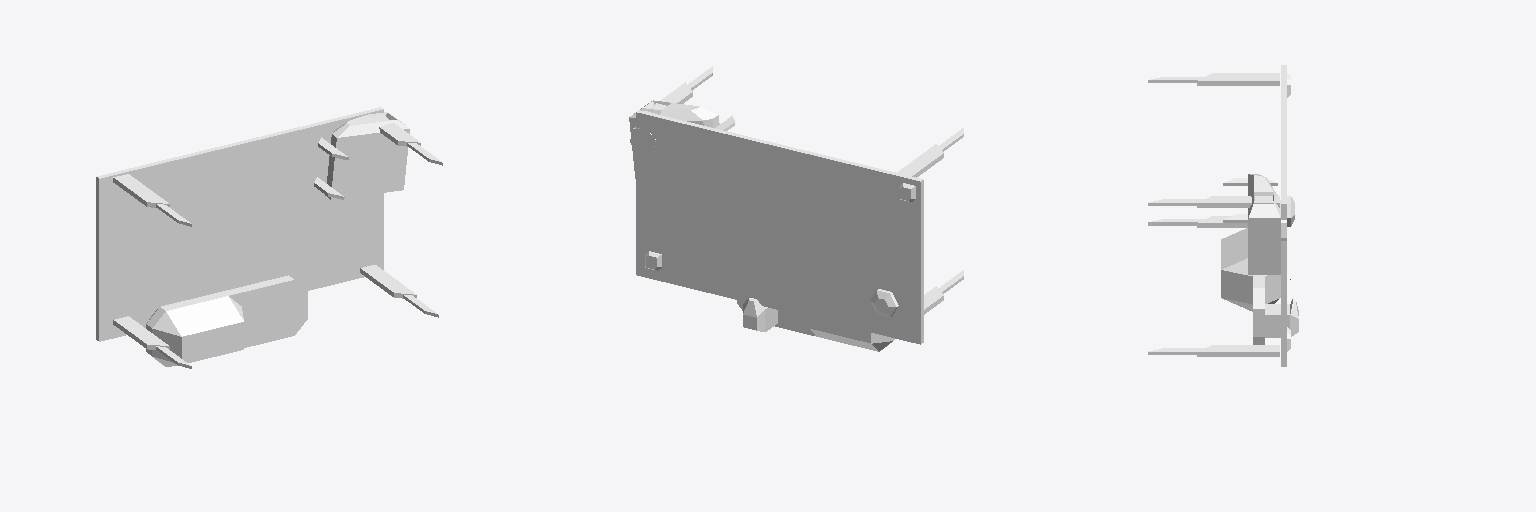
Rendered from belters_flagplat.obj.
3 renders of one model, left to right at view 1: azimuth 30°, elevation 25°; view 2: azimuth 150°, elevation 25°; view 3: azimuth 270°, elevation 25°, orthographic.
Visible parts, largest first — view 1: frm-cube1, frm-cube7, frm-cube3, frm-cube27, frm-cube5, frm-cube25, frm-cube23; view 2: frm-cube1, frm-cube7, frm-cube3, frm-cube14, frm-cube25, frm-cyl1; view 3: frm-cube7, frm-cube3, frm-cube1, frm-cube25, frm-cube5, frm-cube14, frm-cube23.
Boxes of the visible parts, box(x1,y1,x2,y2) form: frm-cube1: box(96, 107, 383, 341); frm-cube7: box(146, 275, 307, 366); frm-cube3: box(325, 112, 409, 199); frm-cube27: box(113, 316, 169, 349); frm-cube5: box(360, 265, 416, 298); frm-cube25: box(113, 174, 169, 207); frm-cube23: box(373, 115, 420, 146); frm-cube1: box(636, 110, 923, 344); frm-cube7: box(737, 300, 894, 351); frm-cube3: box(629, 100, 719, 178); frm-cube14: box(743, 298, 777, 331); frm-cube25: box(897, 144, 943, 177); frm-cyl1: box(870, 289, 898, 317); frm-cube7: box(1221, 228, 1280, 344); frm-cube3: box(1248, 174, 1280, 274); frm-cube1: box(1281, 65, 1286, 366); frm-cube25: box(1197, 73, 1279, 85); frm-cube5: box(1197, 345, 1279, 356); frm-cube14: box(1265, 298, 1298, 337); frm-cube23: box(1197, 196, 1279, 207).
Bounding box in the file's own units: 73.76 × 53.78 × 53.71.